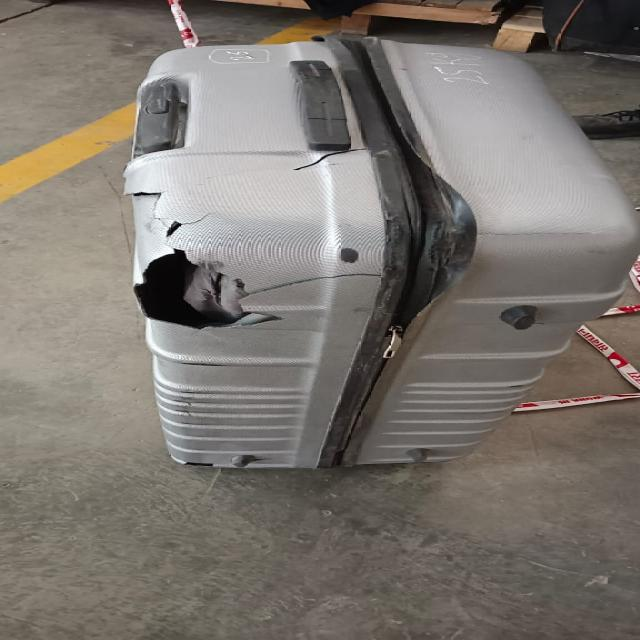Damage-bag: (353, 125, 478, 384), (136, 250, 378, 329), (292, 149, 367, 169), (231, 455, 261, 468), (167, 221, 183, 236), (153, 210, 167, 224), (178, 461, 214, 466), (128, 191, 161, 196), (197, 214, 208, 221)
